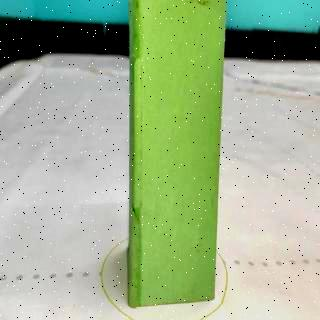greenbox: (127, 0, 226, 309)
